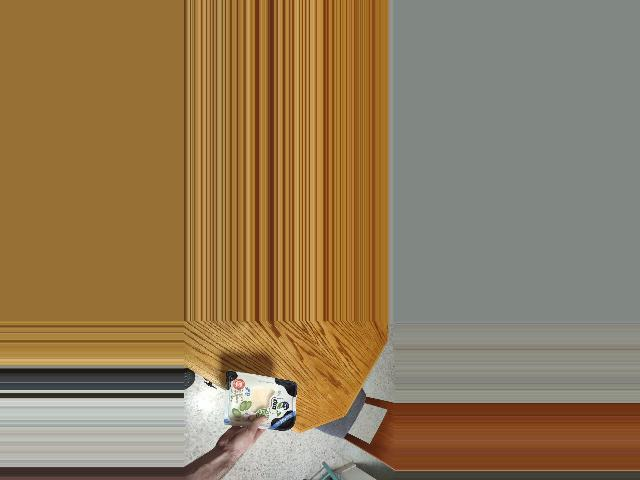cheese: (216, 371, 306, 434)
